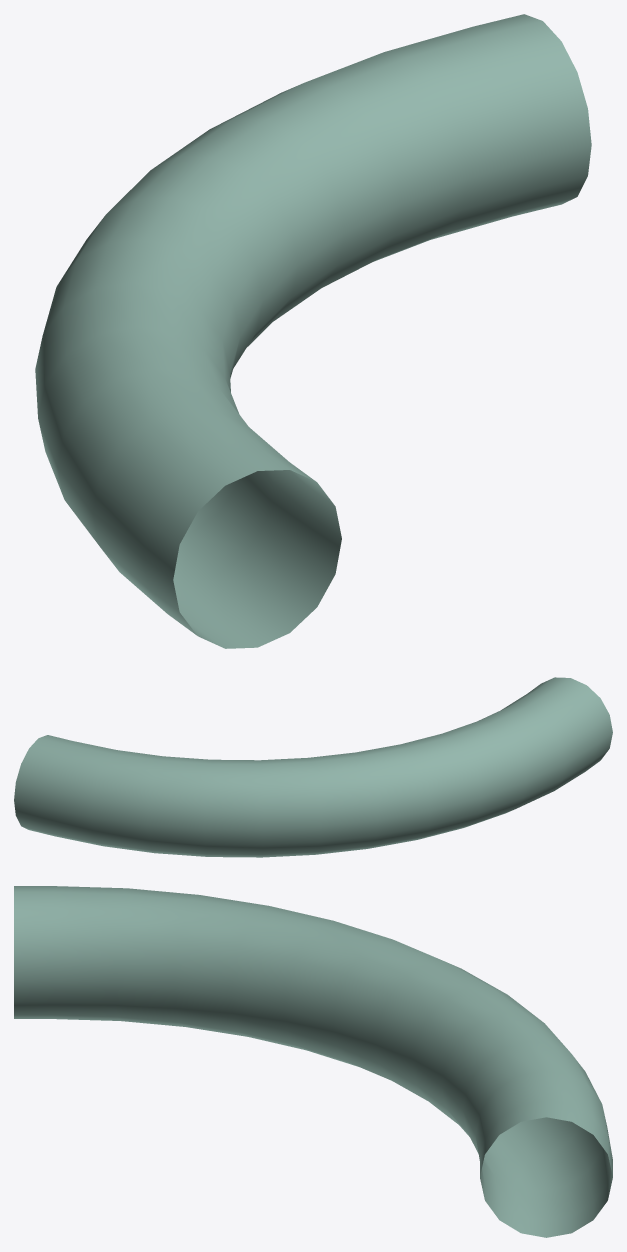
File: PipeLarge_Bent_04.fbx
3 renders of one model, top to bottom at view 1: azimuth 30°, elevation 25°; view 2: azimuth 150°, elevation 25°; view 3: azimuth 270°, elevation 25°, orthographic. The views are drawn at different scales.
Parts seen in each view (by area): view 1: PipeLarge_Bent_04.001; view 2: PipeLarge_Bent_04.001; view 3: PipeLarge_Bent_04.001.
Boxes of the visible parts, x1,y1,x2,y2 form: PipeLarge_Bent_04.001: [35, 14, 591, 648]; PipeLarge_Bent_04.001: [14, 677, 612, 857]; PipeLarge_Bent_04.001: [14, 886, 612, 1237].
Size of the model in its own units: 0.9 by 0.2 by 0.9.
